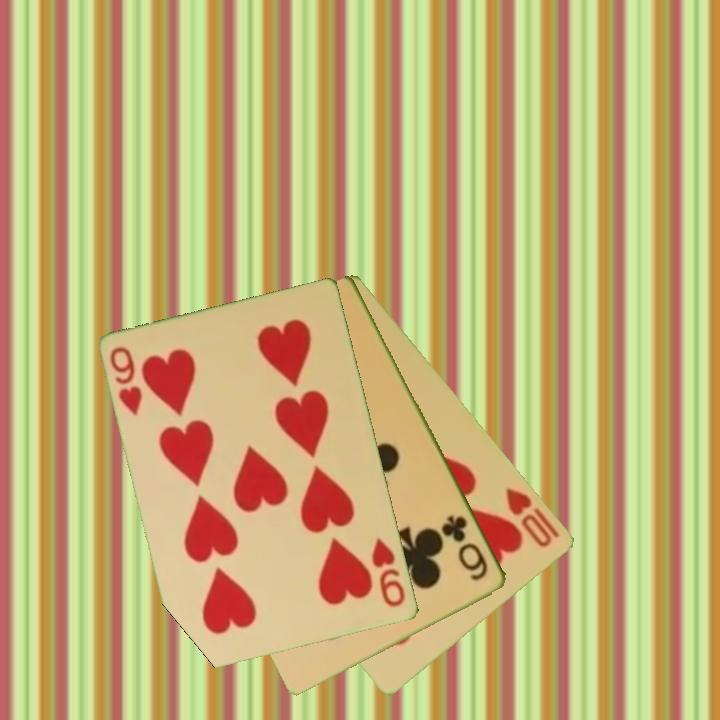10h: (502, 484, 563, 551)
6c: (439, 511, 491, 584)
9h: (368, 535, 409, 610), (106, 343, 146, 419)
